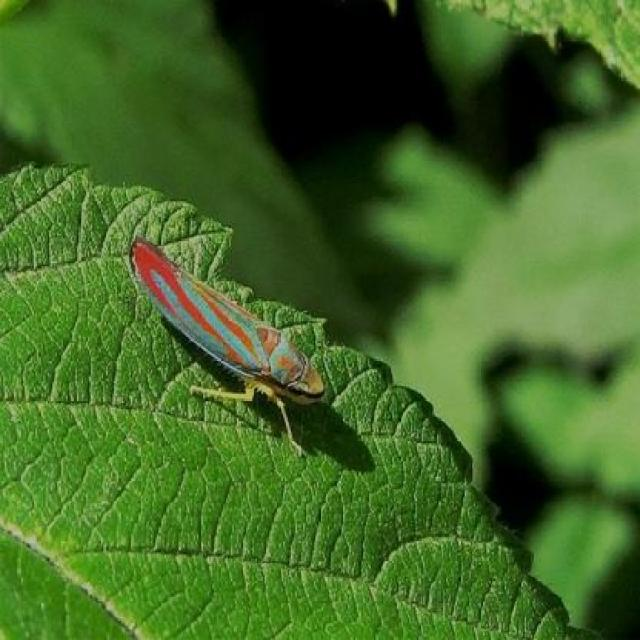green-leafhopper: (132, 237, 325, 440)
